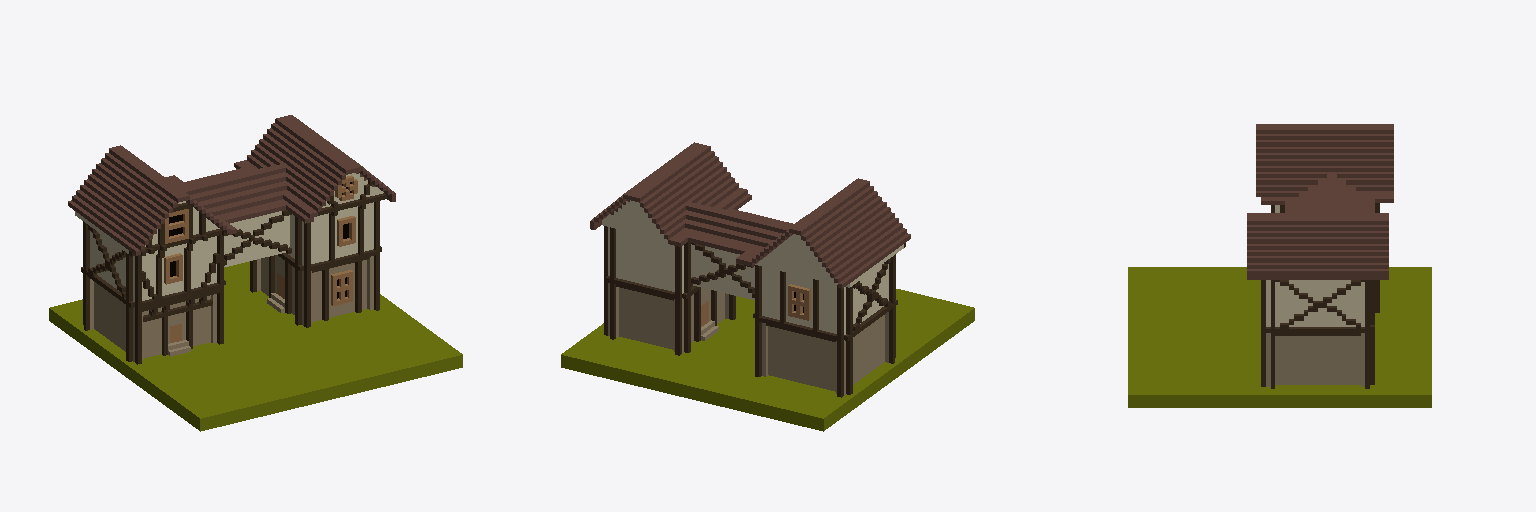
3 renders of one model, left to right at view 1: azimuth 30°, elevation 25°; view 2: azimuth 150°, elevation 25°; view 3: azimuth 270°, elevation 25°, orthographic.
Visible parts, largest first — view 1: object 1; view 2: object 1; view 3: object 1.
Boxes of the visible parts, x1,y1,x2,y2 form: object 1: [49, 115, 462, 431]; object 1: [561, 142, 974, 431]; object 1: [1128, 124, 1431, 407].
Bounding box in the file's own units: 6.4 × 4.1 × 6.4.
1 materials, 1 textured.